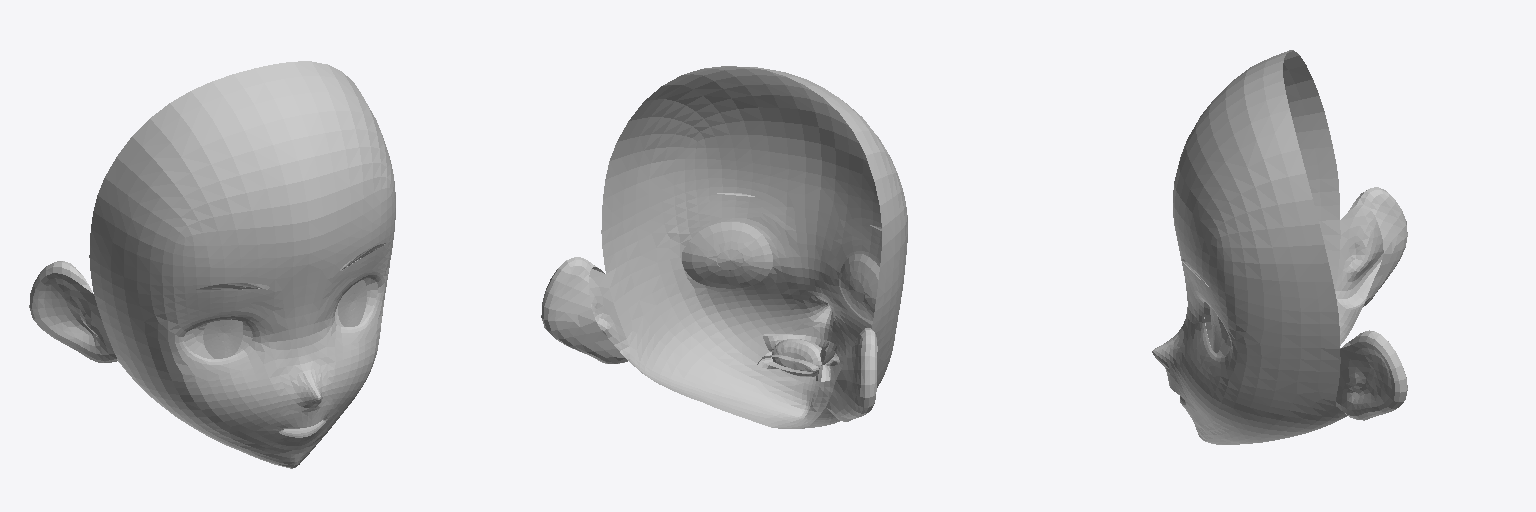
Rendered from eyeWideLeft.obj.
3 renders of one model, left to right at view 1: azimuth 30°, elevation 25°; view 2: azimuth 150°, elevation 25°; view 3: azimuth 270°, elevation 25°, orthographic.
Parts seen in each view (by area): view 1: Face; view 2: Face; view 3: Face.
Boxes of the visible parts, x1=… form: Face: x1=29, y1=61, x2=395, y2=468; Face: x1=541, y1=66, x2=907, y2=428; Face: x1=1152, y1=50, x2=1407, y2=444.
Bounding box in the file's own units: 0.2176 × 0.2333 × 0.1449.